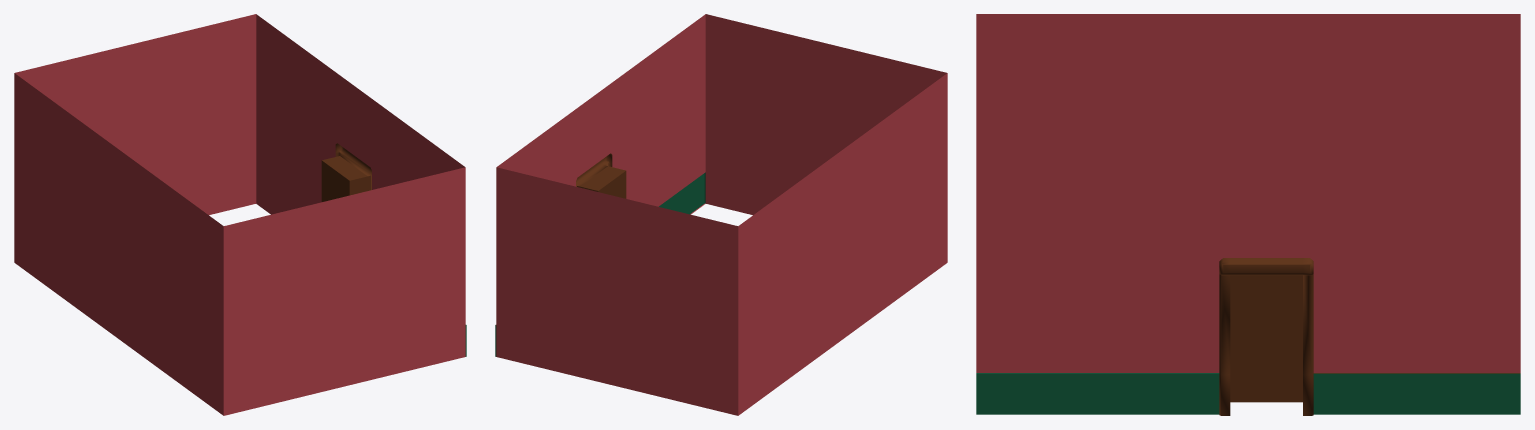
Rendered from Stucco bottom 6x4.fbx.
The picture shows the model from 3 angles, left to right: view 1: azimuth 30°, elevation 25°; view 2: azimuth 150°, elevation 25°; view 3: azimuth 270°, elevation 25°; orthographic projection. The views are drawn at different scales.
Visible parts, largest first — view 1: Stucco bottom 6; view 2: Stucco bottom 6; view 3: Stucco bottom 6.
Part boxes in pixels (bbox=[...]): Stucco bottom 6: bbox=[14, 14, 466, 415]; Stucco bottom 6: bbox=[495, 14, 947, 415]; Stucco bottom 6: bbox=[976, 14, 1520, 415].
Size of the model in its own units: 411 by 300 by 600.
